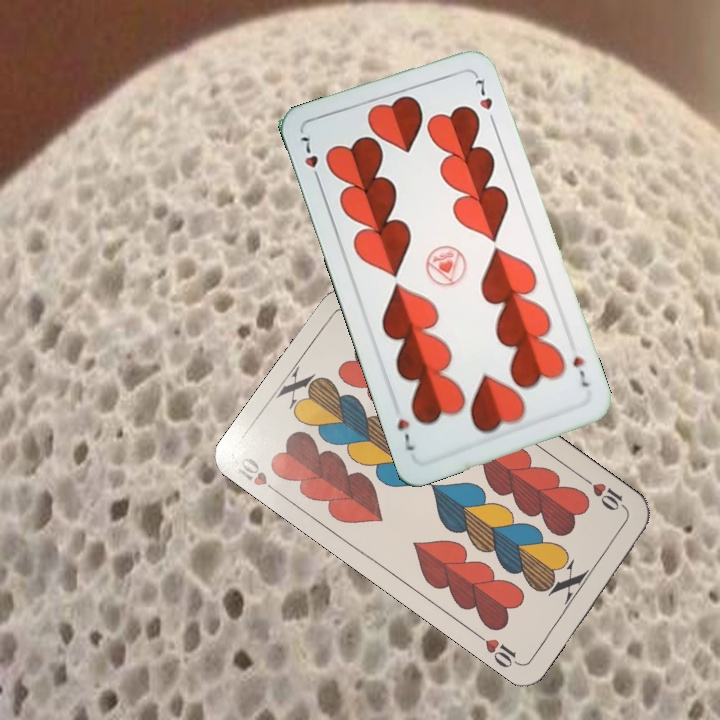H10: (233, 453, 285, 499), (580, 474, 631, 515)
H7: (295, 130, 324, 187), (568, 351, 591, 390)
